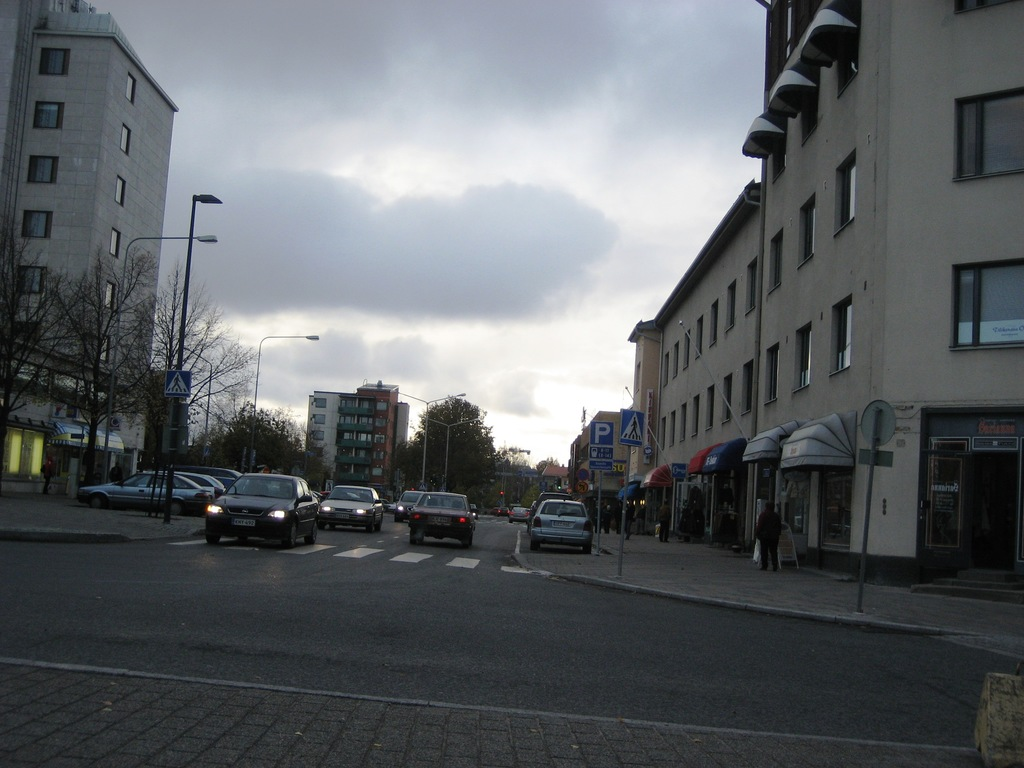cars: (81, 472, 597, 553)
